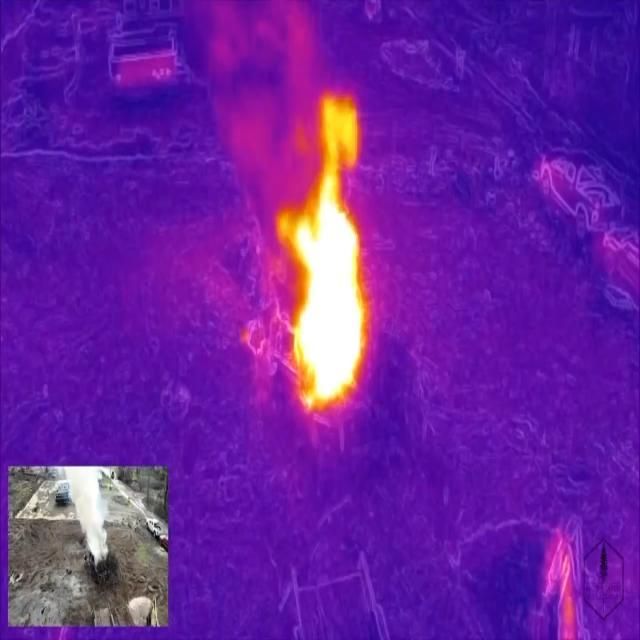fire: (282, 110, 370, 411)
